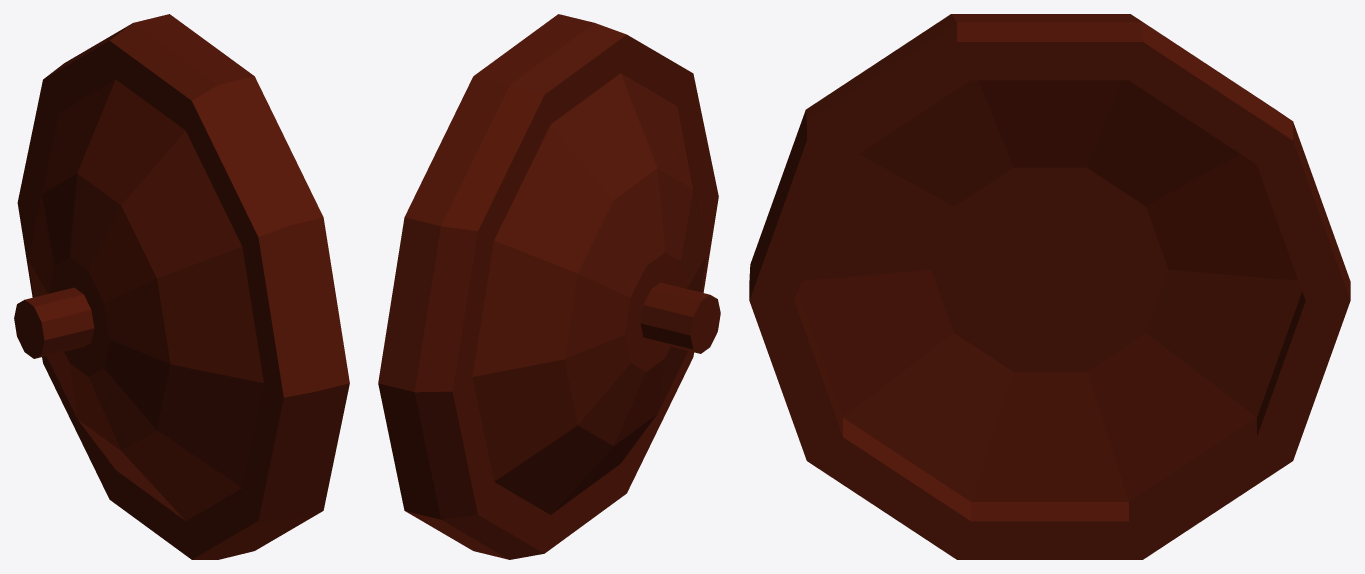
The model's file is Hydrant Cap.obj.
3 renders of one model, left to right at view 1: azimuth 30°, elevation 25°; view 2: azimuth 150°, elevation 25°; view 3: azimuth 270°, elevation 25°, orthographic. The views are drawn at different scales.
Visible parts, largest first — view 1: Cap_Cylinder.004; view 2: Cap_Cylinder.004; view 3: Cap_Cylinder.004.
Boxes of the visible parts, box(x1,y1,x2,y2) form: Cap_Cylinder.004: box(14, 14, 349, 559); Cap_Cylinder.004: box(378, 14, 720, 559); Cap_Cylinder.004: box(749, 14, 1350, 559).
Size of the model in its own units: 0.5013 by 1.22 by 1.28.
